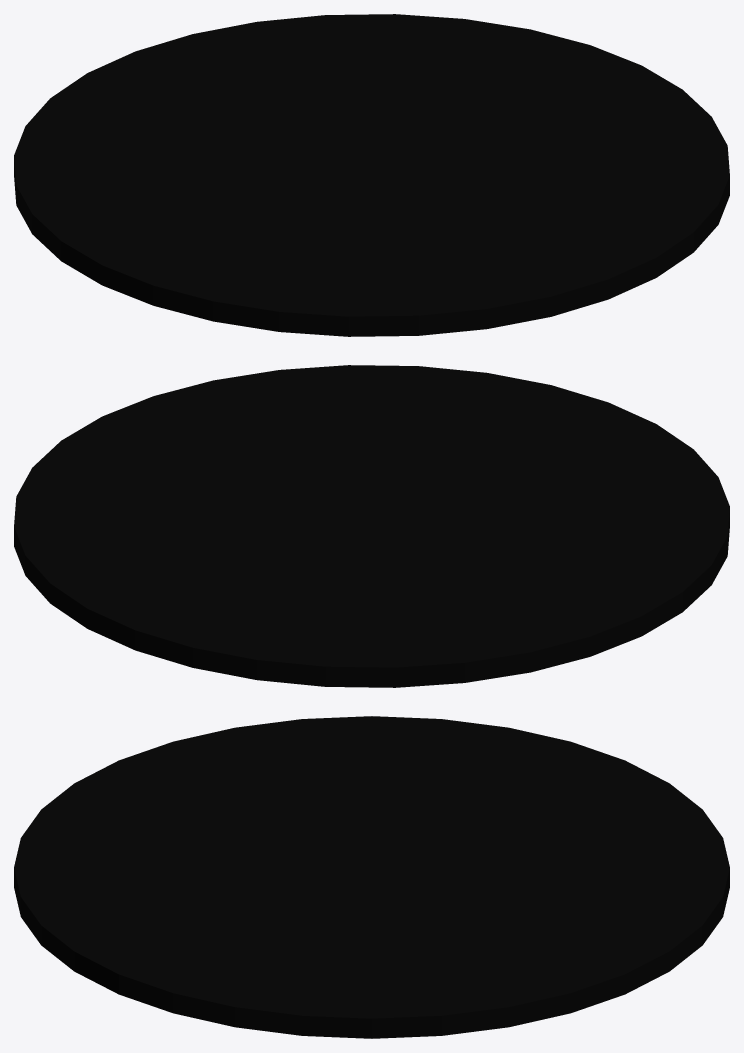
File: eicon.glb
The picture shows the model from 3 angles, top to bottom: view 1: azimuth 30°, elevation 25°; view 2: azimuth 150°, elevation 25°; view 3: azimuth 270°, elevation 25°; orthographic projection.
Parts seen in each view (by area): view 1: Circle; view 2: Circle; view 3: Circle.
Boxes of the visible parts, x1,y1,x2,y2 form: Circle: (14, 14, 729, 336); Circle: (14, 365, 729, 687); Circle: (14, 716, 729, 1038).
Bounding box in the file's own units: 2 × 0.062 × 2.
1 material, 1 textured.
